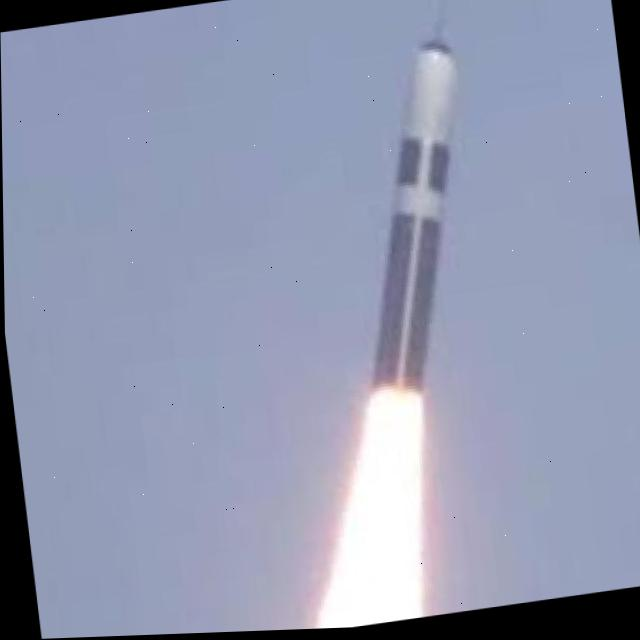missile: (322, 43, 489, 402)
